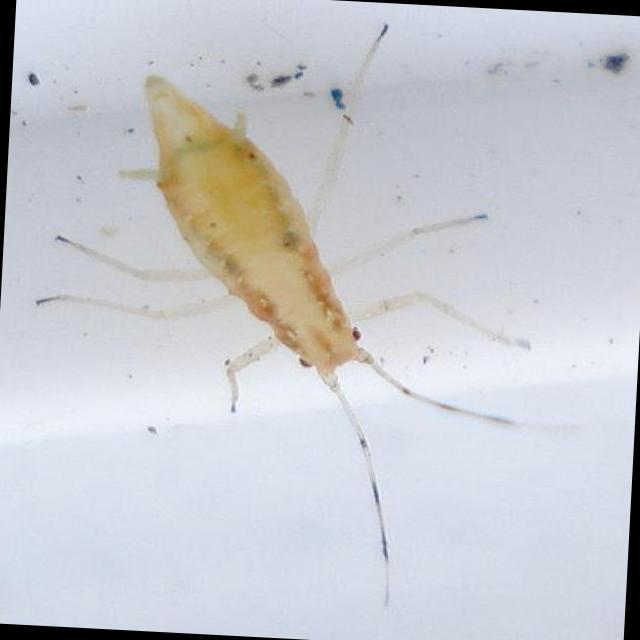aphid: (51, 22, 513, 490)
